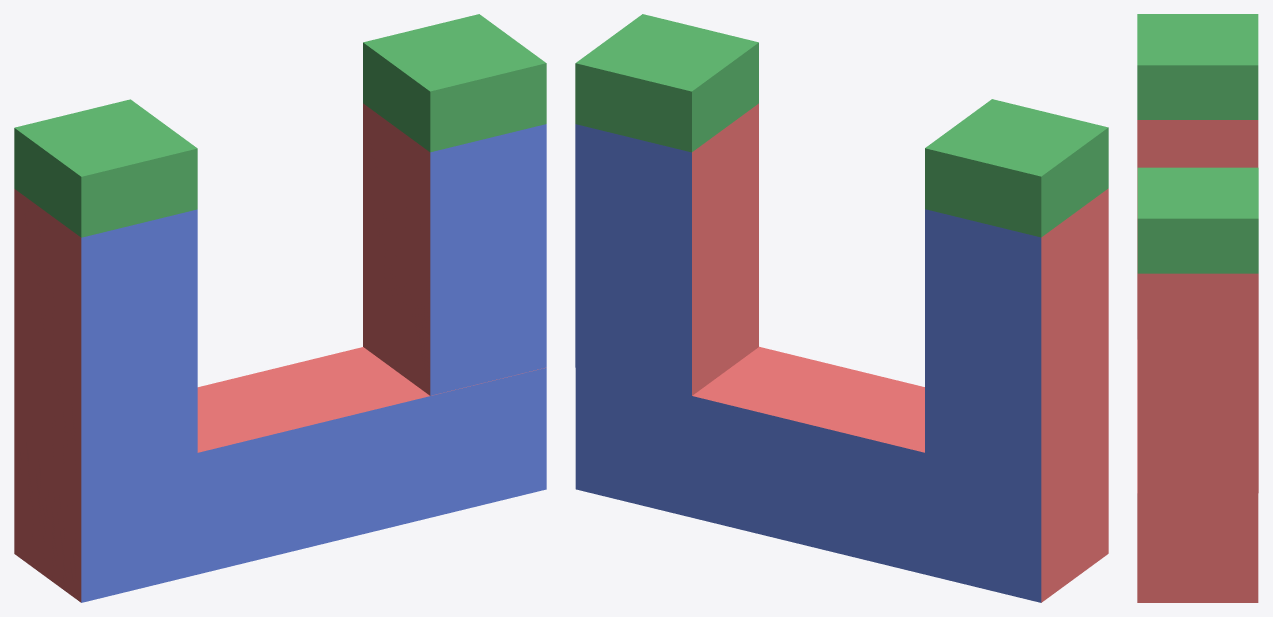
The picture shows the model from 3 angles, left to right: view 1: azimuth 30°, elevation 25°; view 2: azimuth 150°, elevation 25°; view 3: azimuth 270°, elevation 25°; orthographic projection. The views are drawn at different scales.
Visible parts, largest first — view 1: xzo (×4), ozx (×2), Y (×2), xzx (×3); view 2: xzo (×4), ozx (×2), Y (×2), xzx (×3); view 3: xzo (×2), Y (×2), xzx.
Boxes of the visible parts, box(x1,y1,x2,y2) form: xzo (×4): box(14, 103, 546, 480); ozx (×2): box(197, 347, 430, 574); Y (×2): box(14, 14, 546, 237); xzx (×3): box(14, 368, 546, 602); xzo (×4): box(575, 103, 1108, 480); ozx (×2): box(692, 347, 924, 574); Y (×2): box(575, 14, 1108, 237); xzx (×3): box(575, 368, 1108, 602); xzo (×2): box(1137, 120, 1258, 493); Y (×2): box(1137, 14, 1258, 273); xzx: box(1137, 442, 1258, 602).
Size of the model in its own units: 4 by 1 by 3.5.
